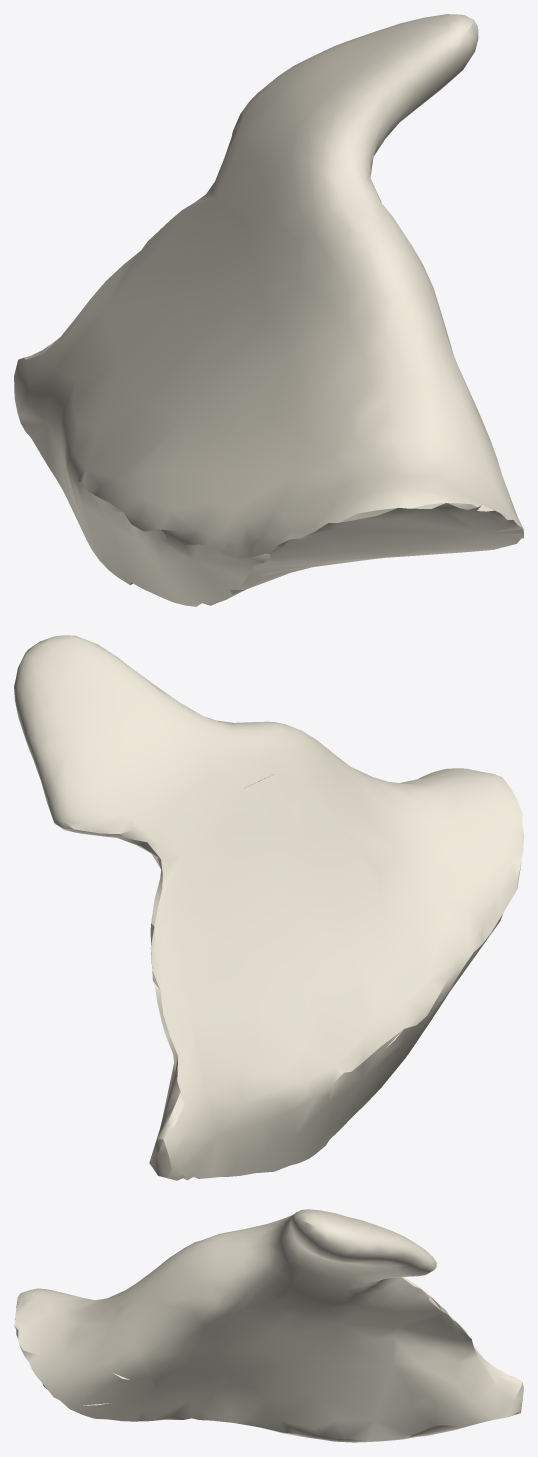
File: fma54744_mm2177.glb
3 renders of one model, top to bottom at view 1: azimuth 30°, elevation 25°; view 2: azimuth 150°, elevation 25°; view 3: azimuth 270°, elevation 25°, orthographic. The views are drawn at different scales.
Parts seen in each view (by area): view 1: FMA54744_MM2177; view 2: FMA54744_MM2177; view 3: FMA54744_MM2177.
Part boxes in pixels (bbox=[...]): FMA54744_MM2177: bbox=[14, 14, 523, 606]; FMA54744_MM2177: bbox=[14, 635, 523, 1180]; FMA54744_MM2177: bbox=[14, 1209, 523, 1442].
Size of the model in its own units: 0.00473 by 0.00568 by 0.00808.
